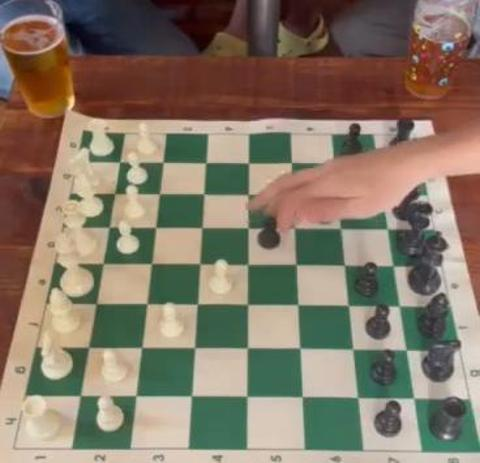xcorner: (326, 153, 345, 172), (283, 153, 302, 172), (240, 152, 259, 171), (153, 151, 172, 170), (110, 151, 129, 170), (284, 184, 303, 203), (195, 183, 214, 202), (150, 183, 169, 202), (105, 182, 124, 201), (379, 219, 398, 238), (332, 219, 351, 238), (286, 218, 305, 237), (193, 217, 212, 236), (146, 217, 165, 236), (384, 256, 403, 275), (288, 255, 307, 274), (239, 255, 258, 274), (191, 254, 210, 273), (142, 254, 161, 273), (290, 295, 309, 314), (239, 295, 258, 314), (397, 340, 416, 359), (345, 339, 364, 358), (292, 339, 311, 358), (239, 339, 258, 358), (79, 338, 98, 357), (294, 387, 313, 406), (239, 387, 258, 406), (183, 387, 202, 406), (71, 386, 90, 405), (197, 152, 215, 171), (374, 185, 392, 204), (329, 185, 348, 203), (240, 184, 258, 203), (240, 218, 258, 237), (99, 217, 118, 235), (336, 256, 355, 274), (93, 254, 112, 272), (391, 296, 409, 315), (340, 296, 359, 314), (188, 295, 207, 313), (138, 294, 156, 313), (87, 294, 105, 313), (186, 339, 205, 357), (133, 338, 151, 357), (405, 388, 424, 406), (350, 387, 368, 406), (127, 387, 146, 405), (369, 154, 387, 172)
